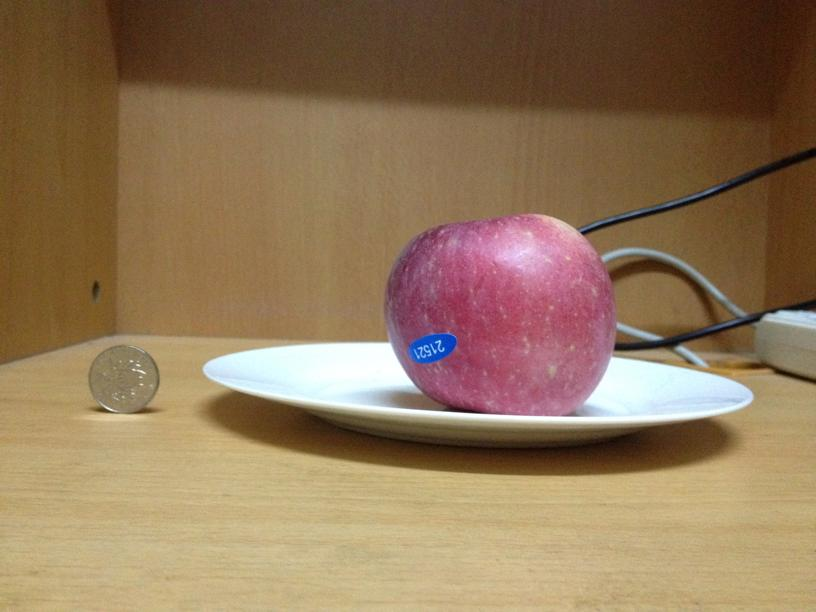apple: (382, 212, 614, 414)
coin: (89, 345, 159, 413)
